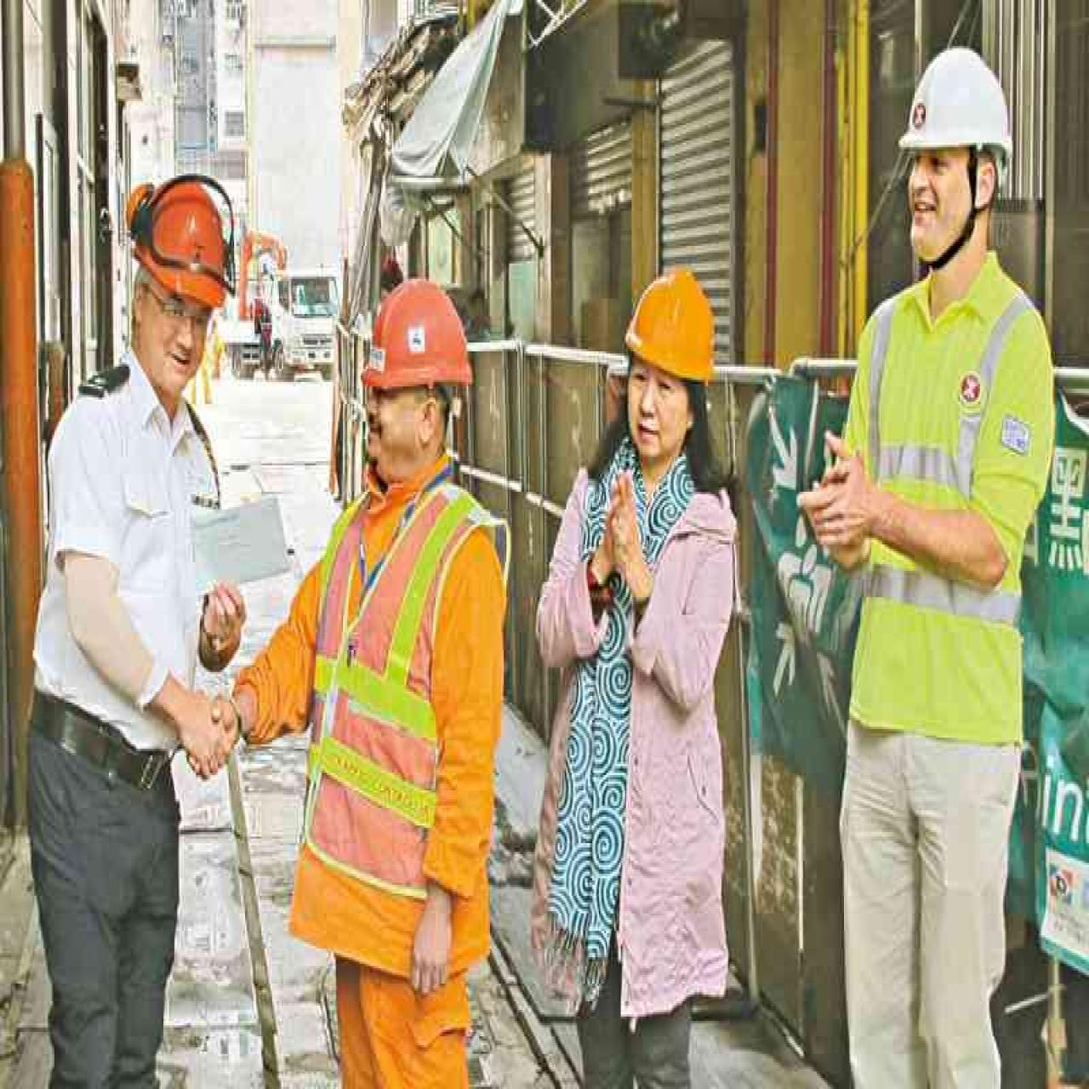NO_Safety_Vest: (844, 256, 1048, 763), (553, 451, 741, 932), (32, 365, 224, 769)
Person: (791, 34, 1047, 1089), (22, 134, 275, 1089), (230, 255, 513, 1089), (517, 249, 796, 1089)
Safety_Vest: (294, 479, 491, 903)
